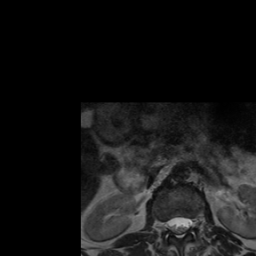CCS_normal: (175, 209, 182, 243)
LFS_normal: (190, 211, 198, 233)
LLS_normal: (182, 211, 190, 236)
RFS_normal: (159, 214, 166, 236)
RLS_normal: (166, 211, 175, 233)
